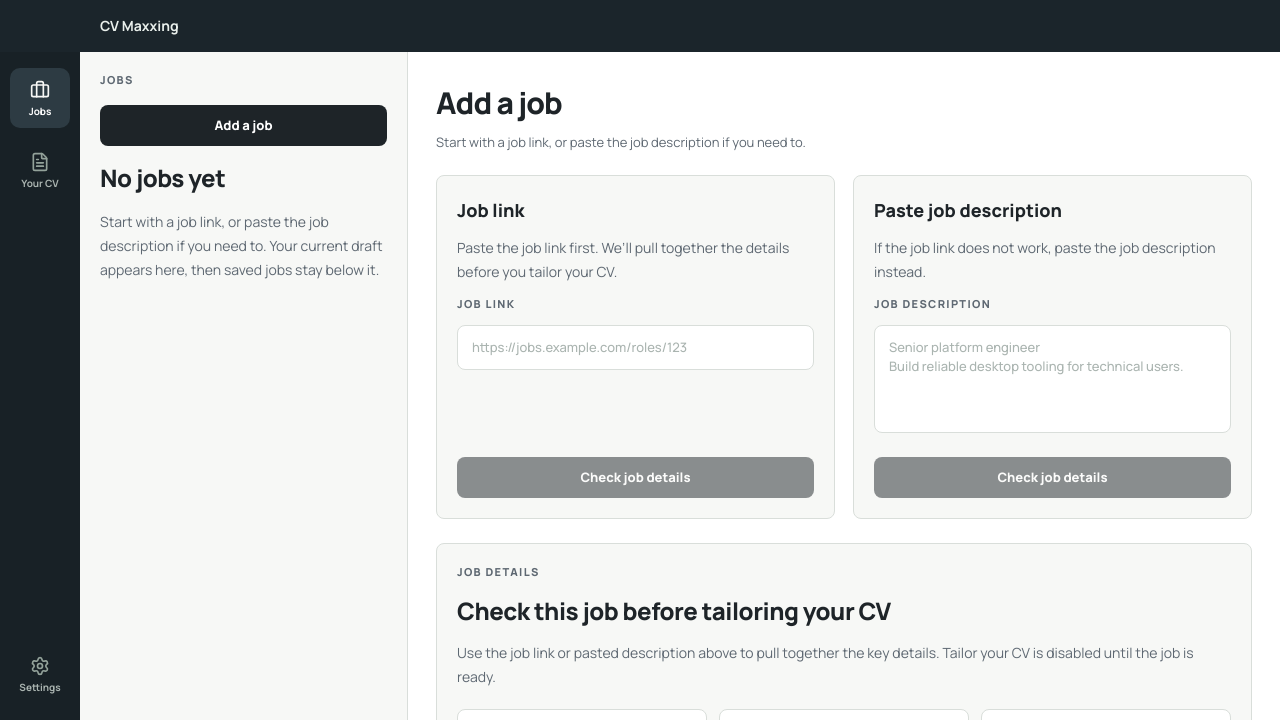
it: preserves pasted vacancy context in a blocking preview and keeps Tailor your CV disabled
Expected: the heading "Add a job" is shown, [436,82,562,123]
Expected: the text box labelled "Job description" is empty, [874,325,1231,433]
Type "https://jobs.example.com/senior-product-designer" into the field labelled "Job link" at (636, 347), box [457,325,814,370]
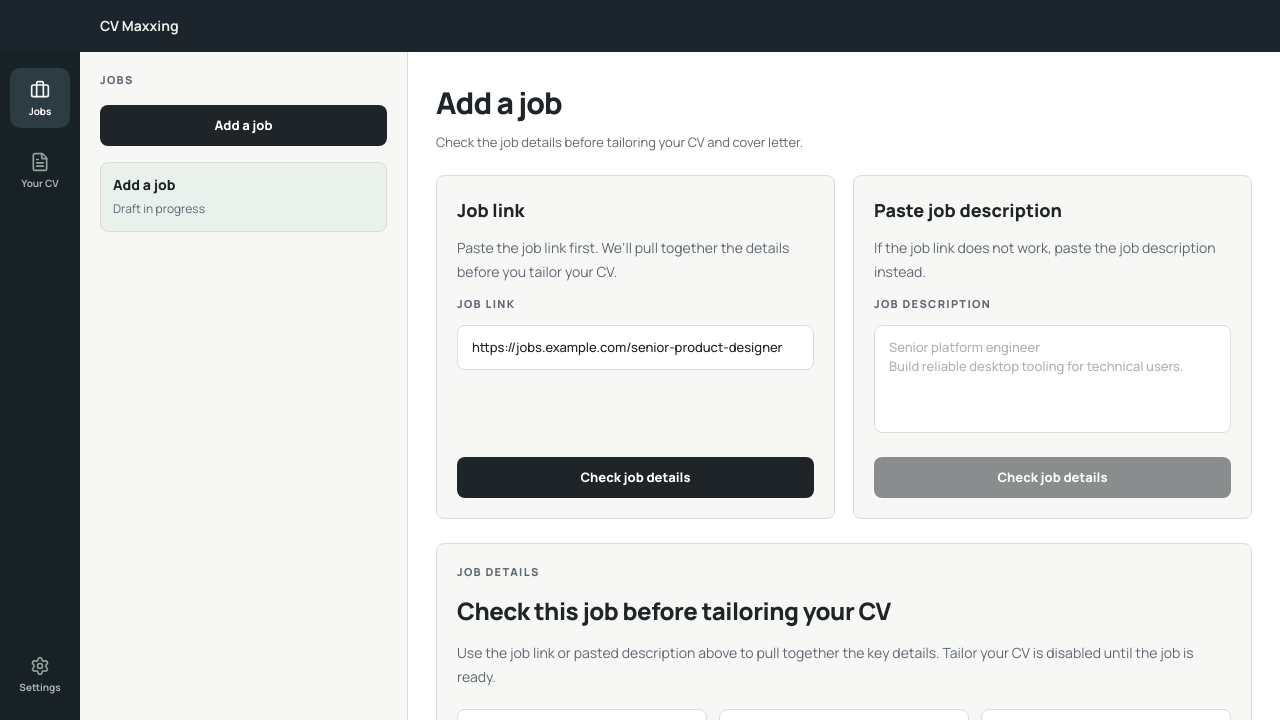
Replace the text in the text box labelled "Job description" with "Short pasted vacancy draft." at (1052, 379), box [874,325,1231,433]
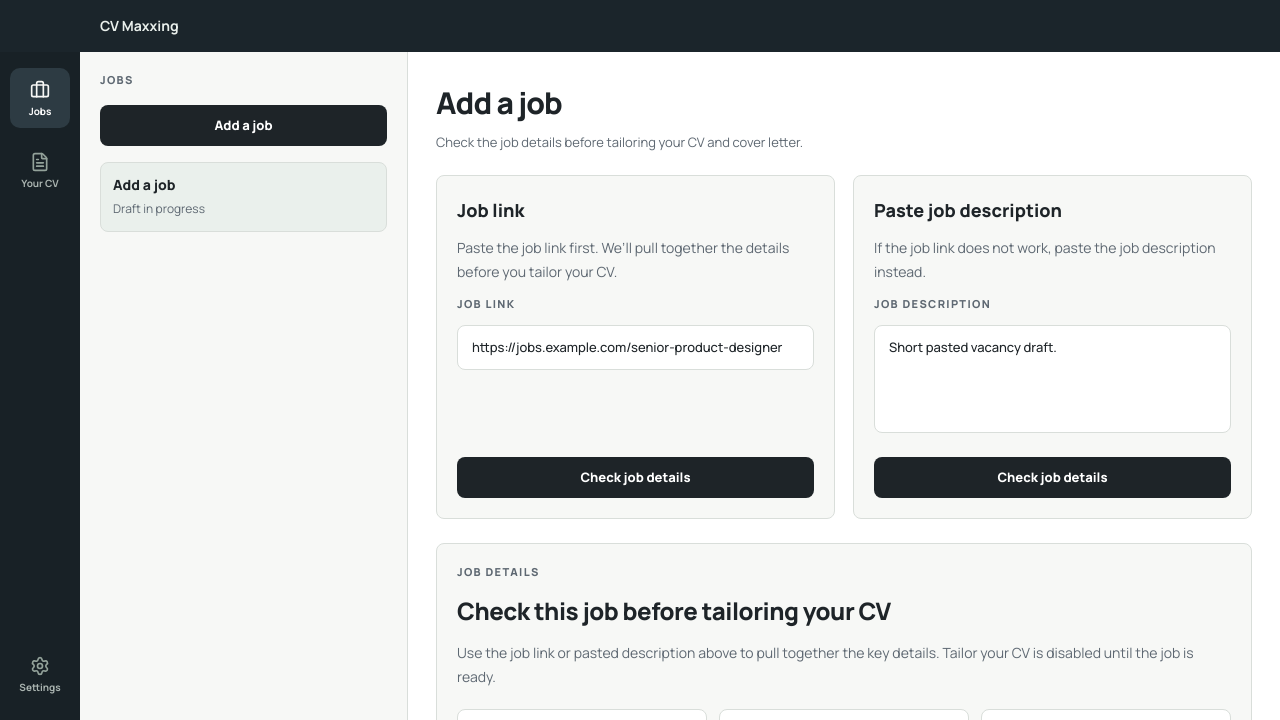
Click the button "Check job details" below "Paste job description" at (1052, 477), box [874,457,1231,498]
(page scrolled)
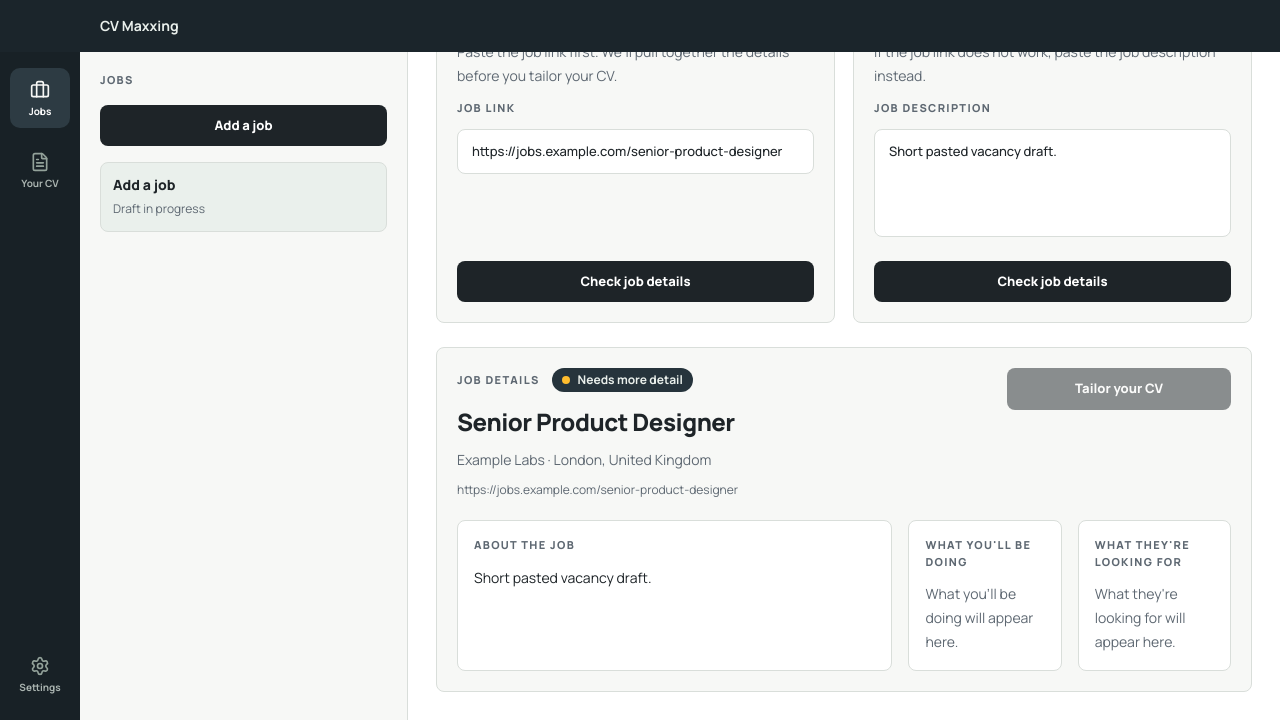
Expected: the button "Tailor your CV" is disabled, [1007,368,1231,410]
Expected: the text "Job details" is shown, [457,372,540,388]
